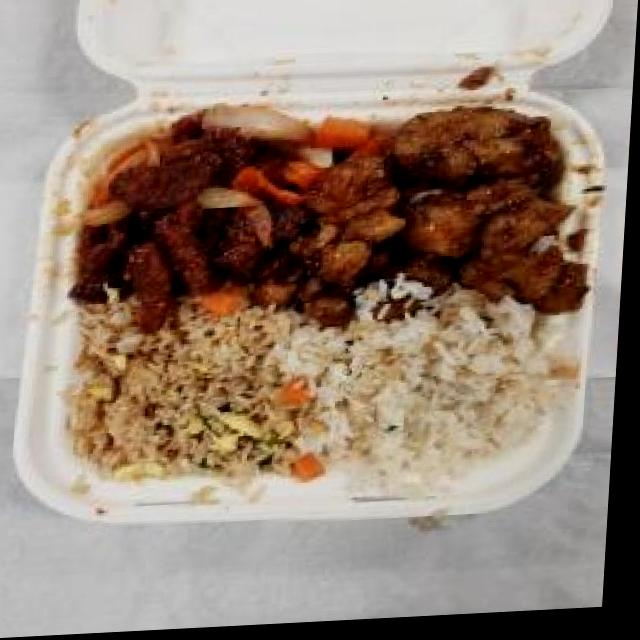Beijing Beef: (58, 107, 322, 327)
Fried Rice: (82, 306, 328, 496)
The Original Orange Chicken: (307, 98, 610, 330)
White Steamed Rice: (299, 291, 568, 505)
